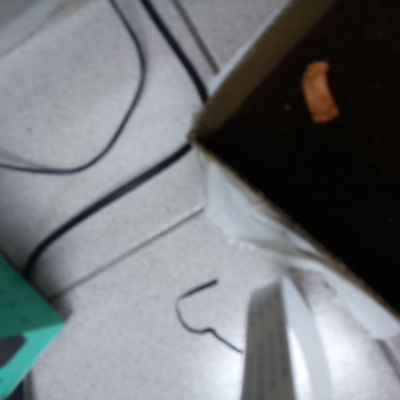eggs: (298, 51, 345, 132)
